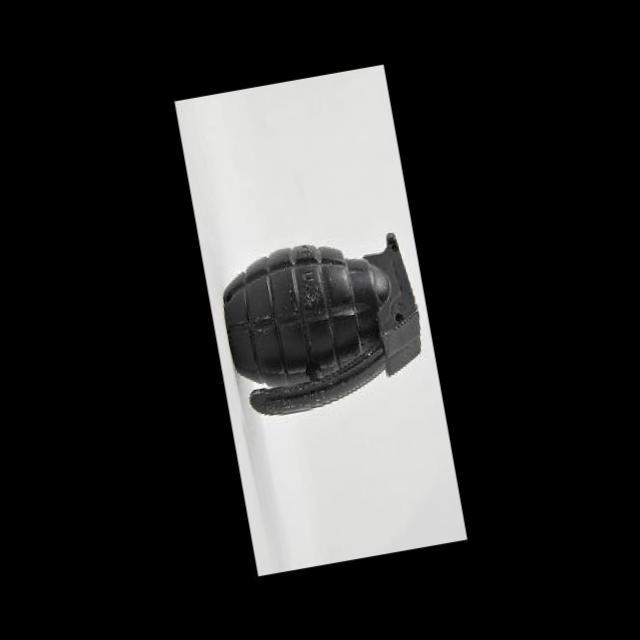grenade: (204, 206, 438, 424)
